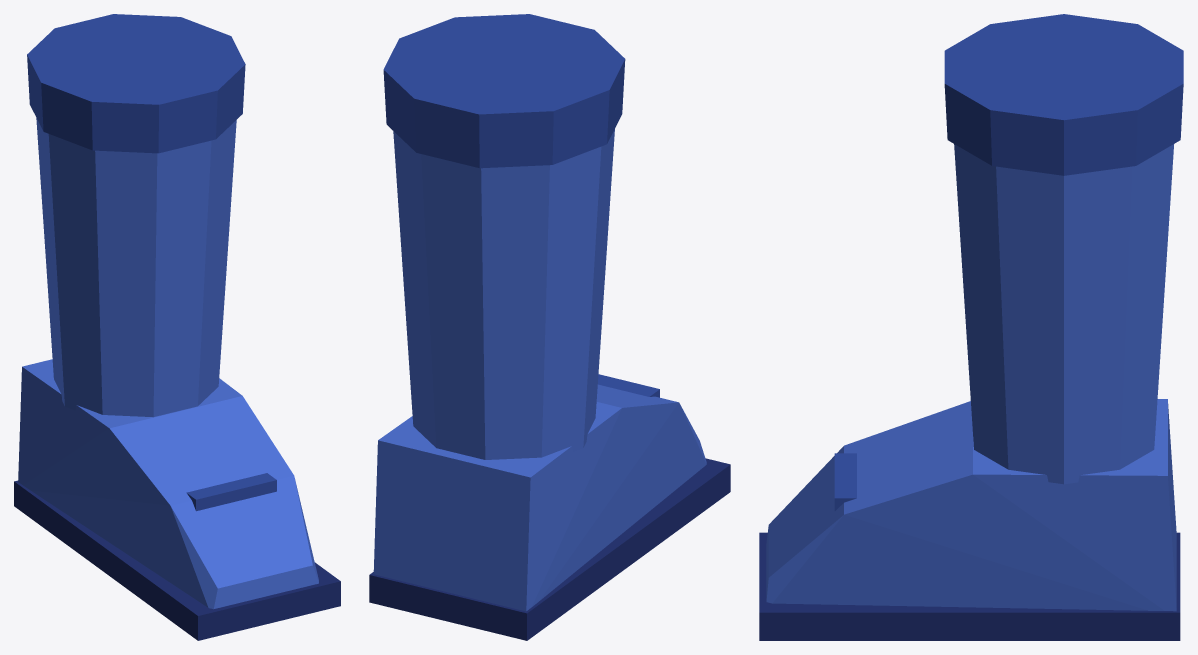
The model's file is gear_mithril_boots_leg_r.glb.
3 views of the same model, side by side, from view 1: azimuth 30°, elevation 25°; view 2: azimuth 150°, elevation 25°; view 3: azimuth 270°, elevation 25° (orthographic). The views are drawn at different scales.
Parts seen in each view (by area): view 1: gear_mithril_boots_leg_r; view 2: gear_mithril_boots_leg_r; view 3: gear_mithril_boots_leg_r.
Boxes of the visible parts, bbox=[...] form: gear_mithril_boots_leg_r: bbox=[14, 14, 340, 640]; gear_mithril_boots_leg_r: bbox=[369, 14, 730, 640]; gear_mithril_boots_leg_r: bbox=[759, 14, 1183, 640].
Size of the model in its own units: 0.16 by 0.375 by 0.2701.
